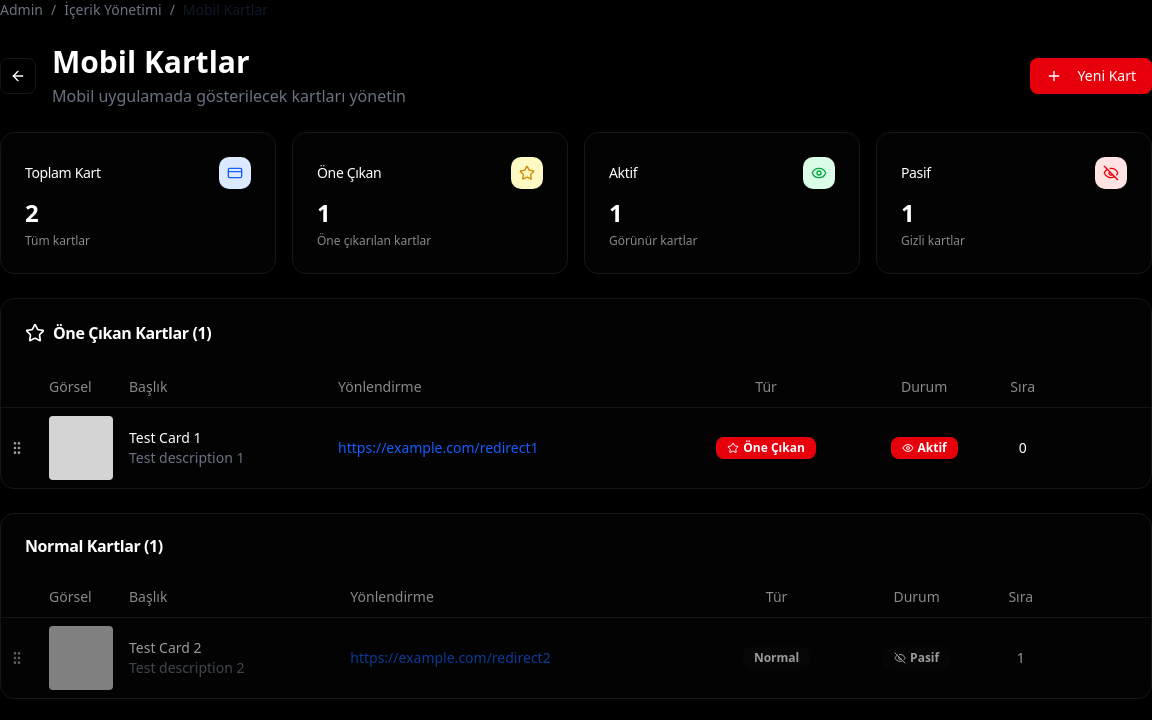
Test: Mobile Cards Admin Page › Card Creation › should open form dialog when "Yeni Kart" is clicked
Click the button "Yeni Kart": (1091, 76) [1030,58,1151,94]
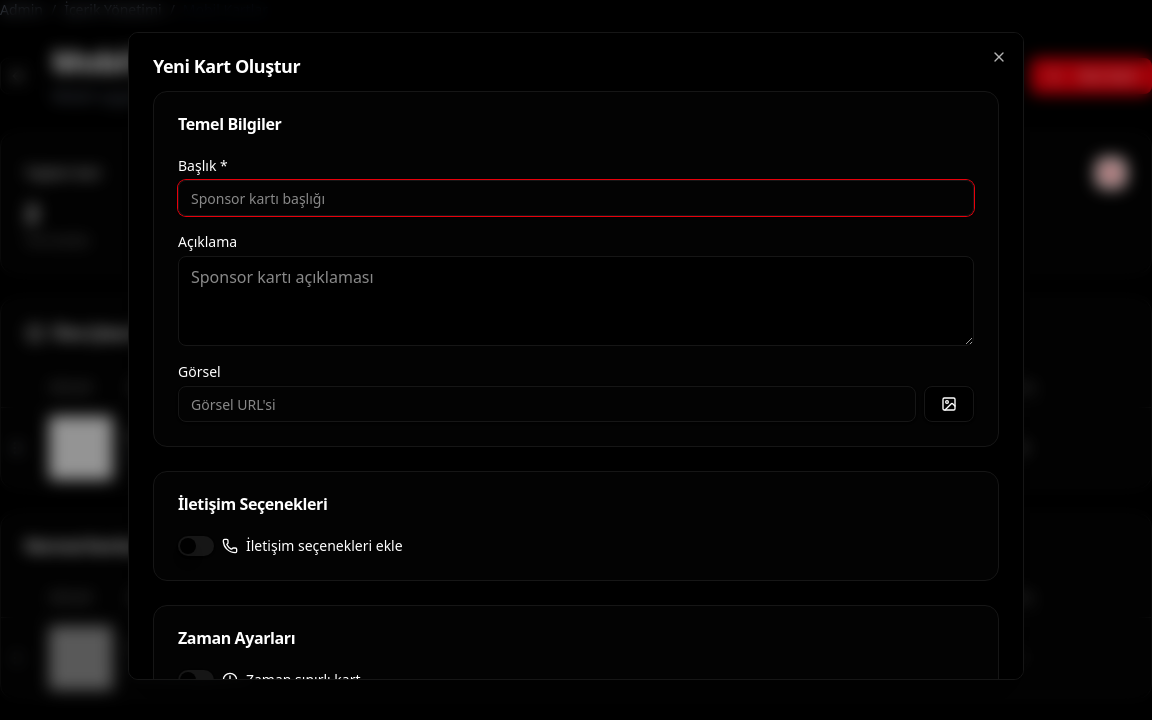
Now the heading "Yeni Kart Oluştur" is shown, box [153,54,300,78]
